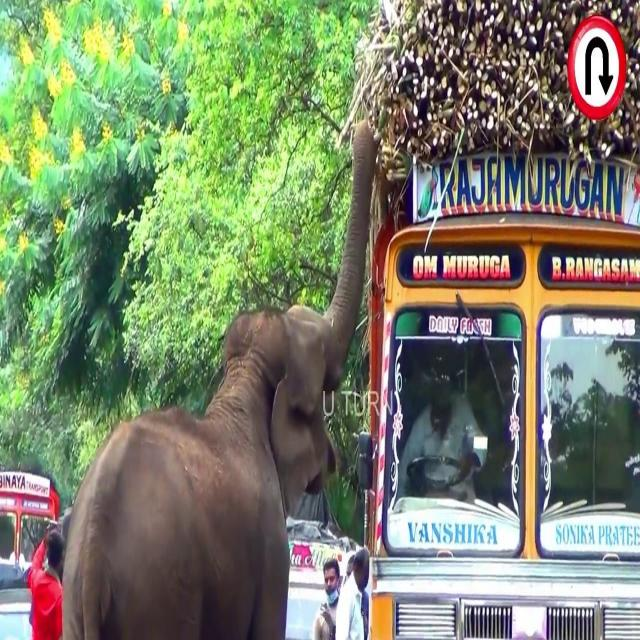Elephant: (59, 115, 379, 633)
